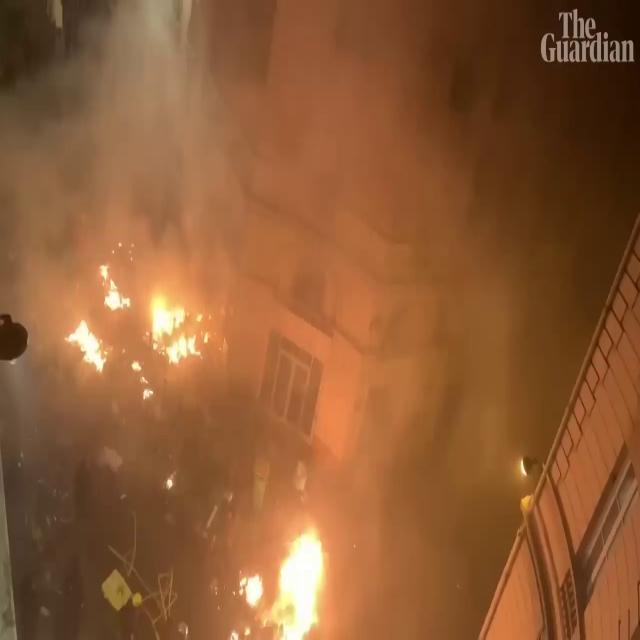Fire: (314, 1, 640, 588), (66, 256, 208, 384), (238, 515, 342, 637), (146, 280, 209, 366), (64, 308, 109, 376)
Smoke: (2, 2, 640, 574)
